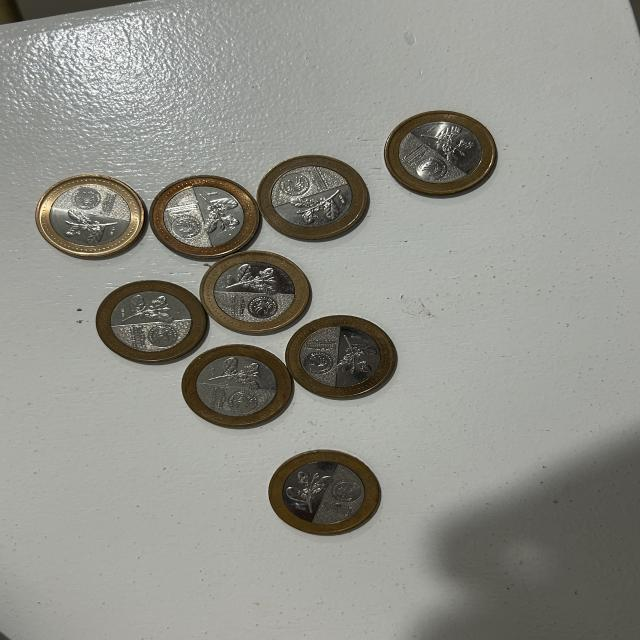20_New_Back: (288, 191, 354, 225), (424, 127, 482, 165), (213, 356, 267, 392), (226, 264, 282, 298), (288, 470, 330, 515), (60, 210, 118, 242), (336, 337, 378, 380), (200, 193, 240, 236), (124, 292, 178, 322)
